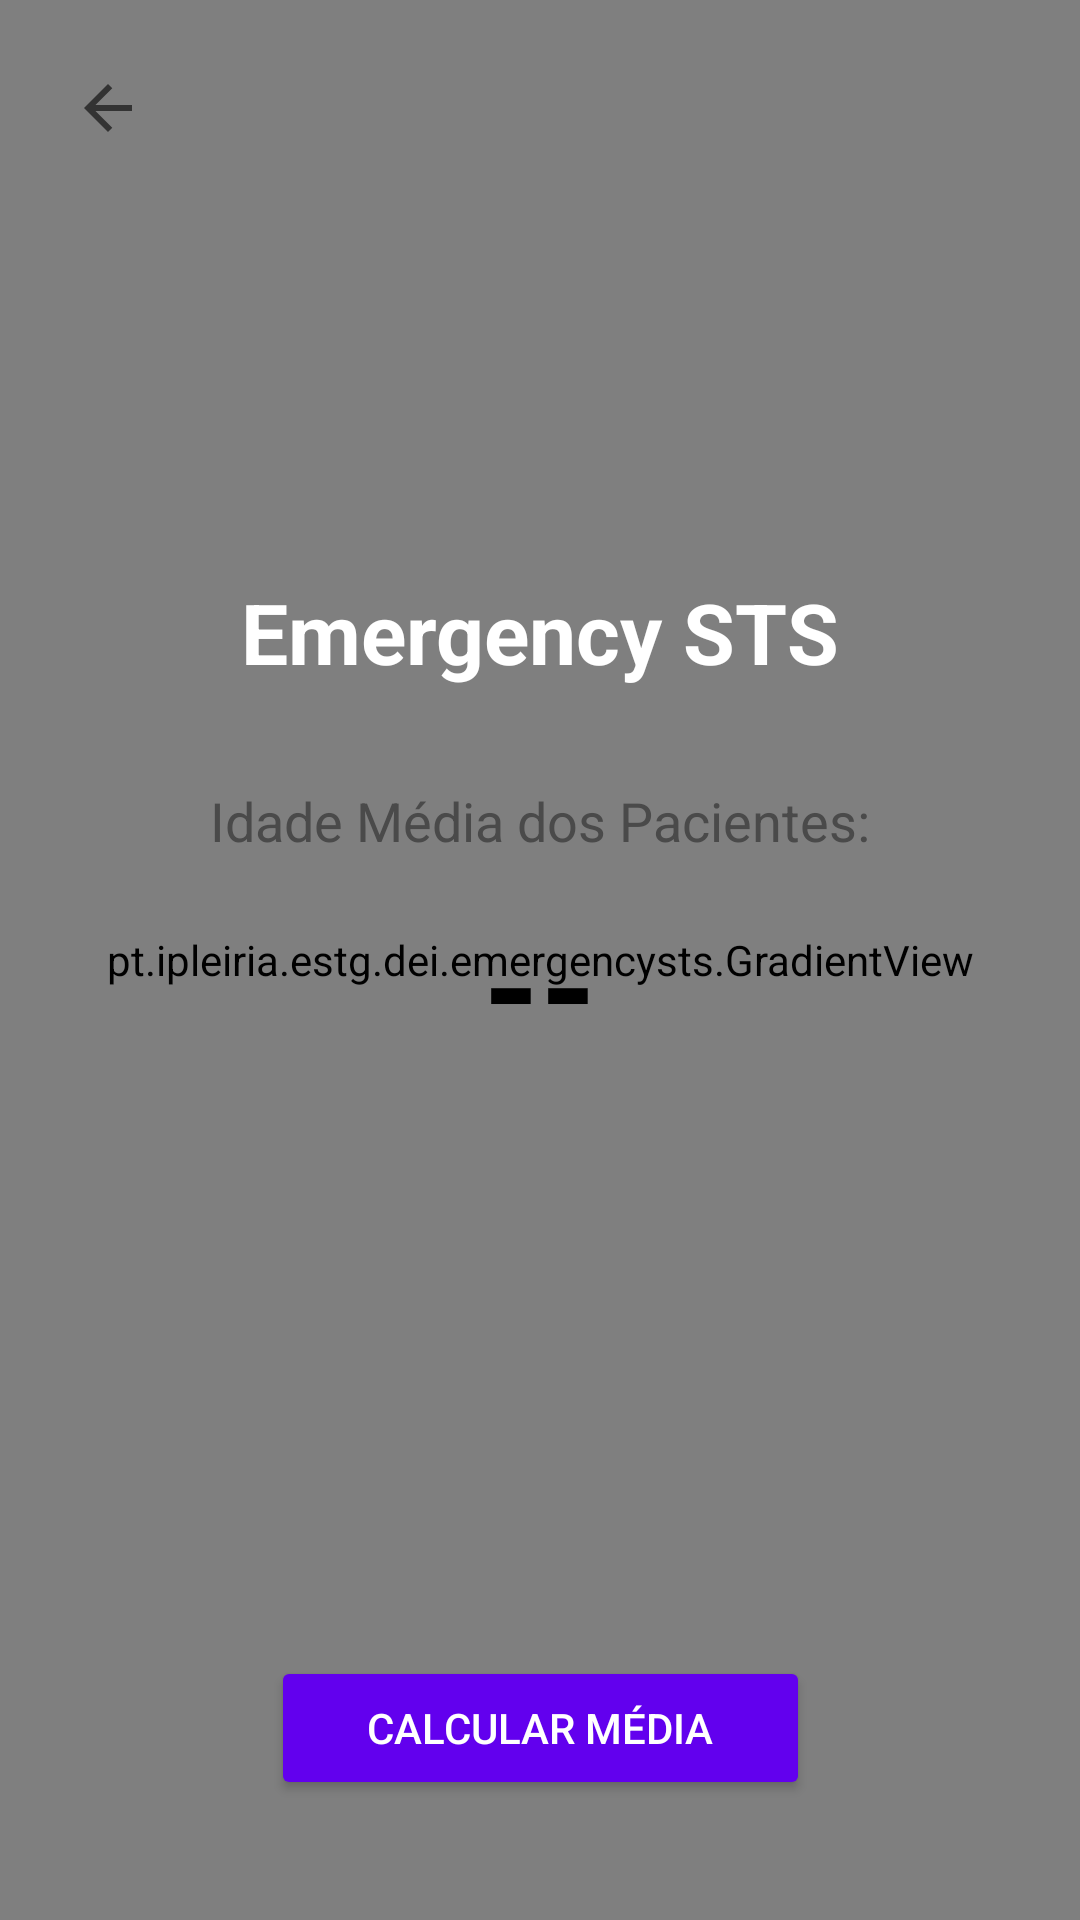

Icon click points for this 1080×1920 phone screenshot, format (x=x, y=y):
voltaratras: (x=108, y=108)
